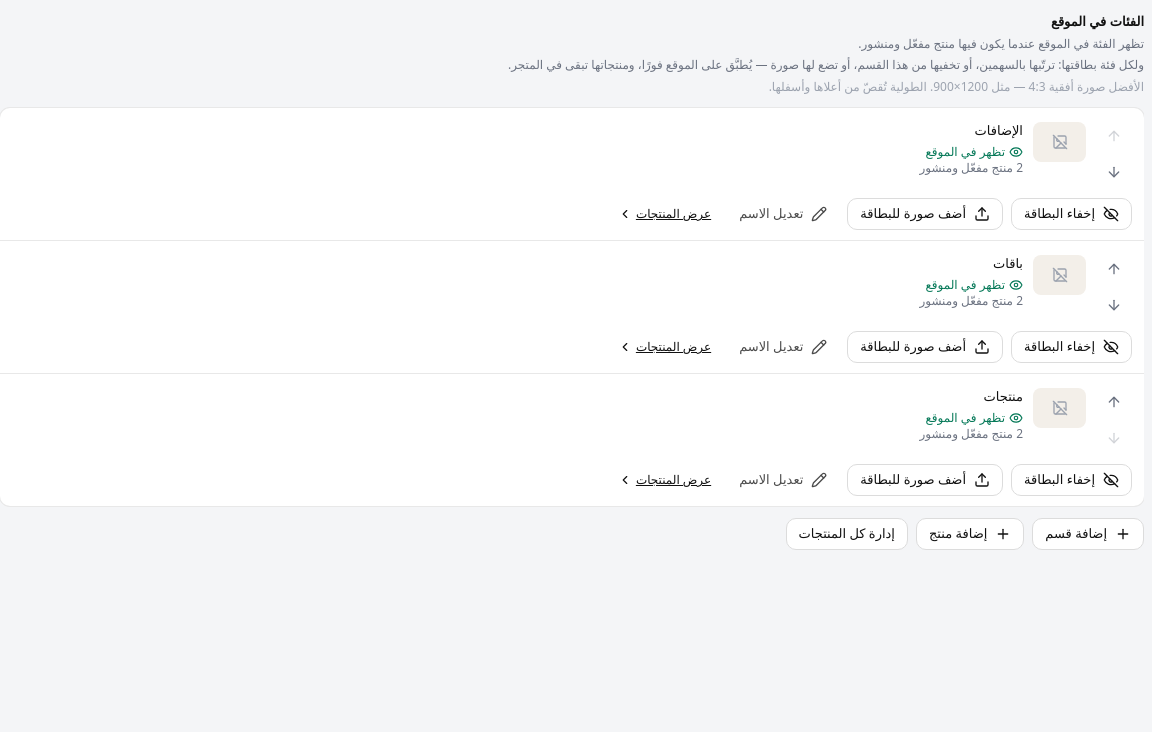
Test: ترتيبُ الفئات في الموقع › وإن رُدّ الترتيبُ عاد كما كان — وقيل لماذا
Click the button named "تحريك لأسفل الإضافات" at (1114, 172), box [1096, 154, 1132, 190]
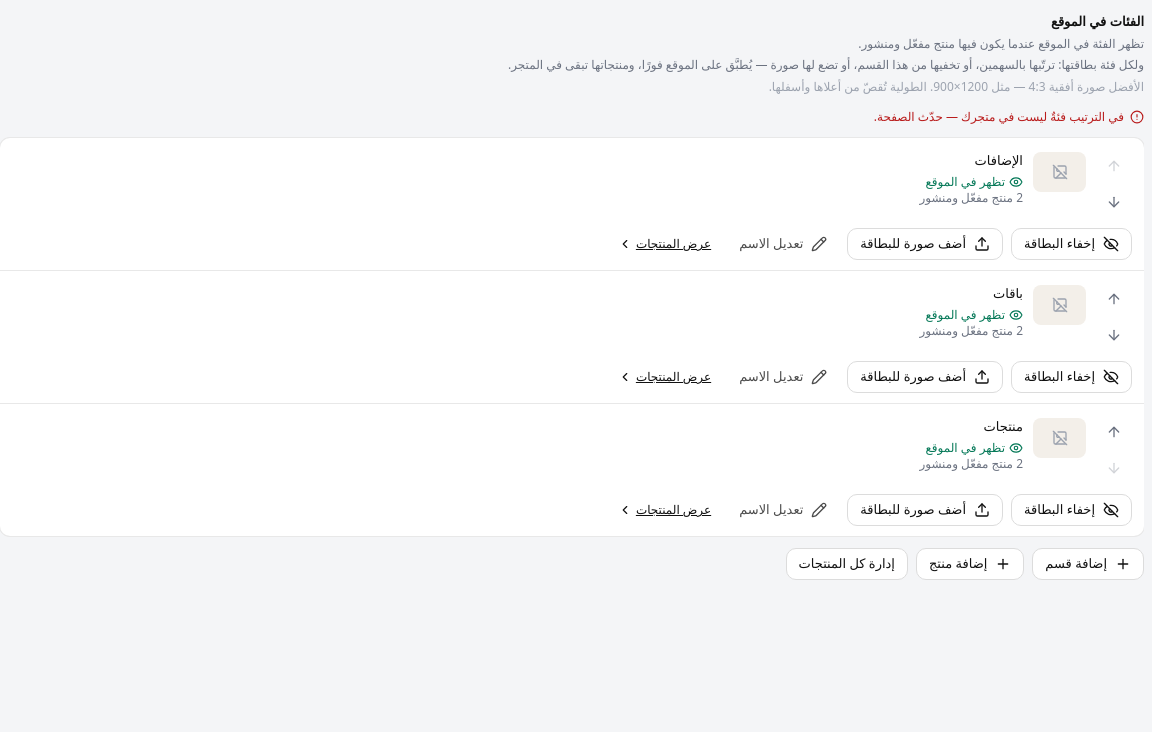
Check: the message with test id "catalog-order-error" reads "في الترتيب فئةٌ ليست في متجرك — حدّث الصفحة.", box [874, 108, 1124, 125]
